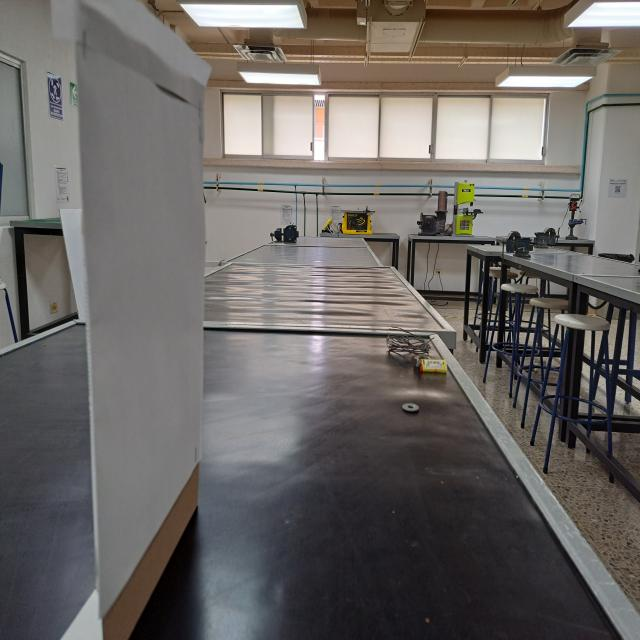wall: (74, 0, 208, 640)
